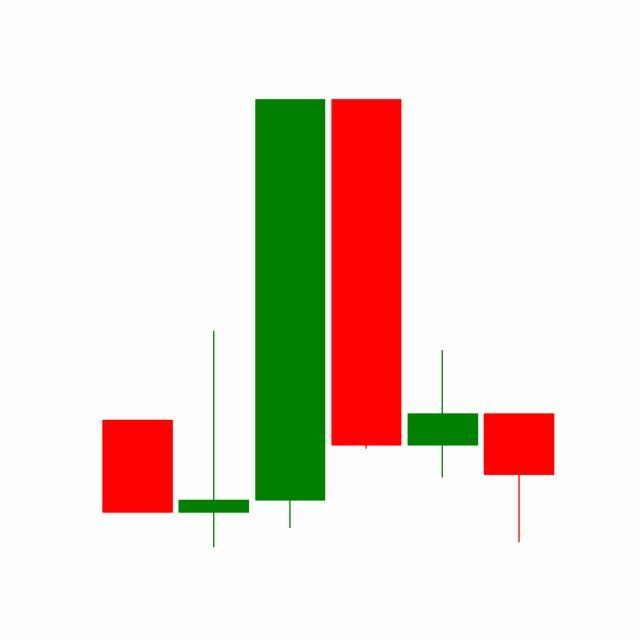Spinning Top: (404, 349, 482, 480)
